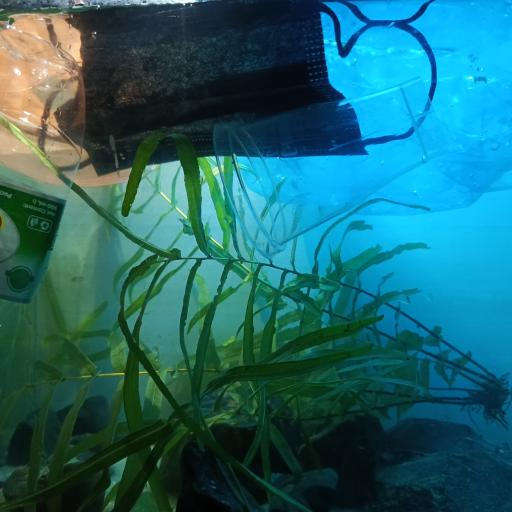mask: (40, 0, 439, 177), (1, 13, 148, 190)
plastic_bag: (235, 37, 512, 219)
plastic_bottle: (0, 18, 87, 457)
plastic_cup: (215, 77, 449, 258)
